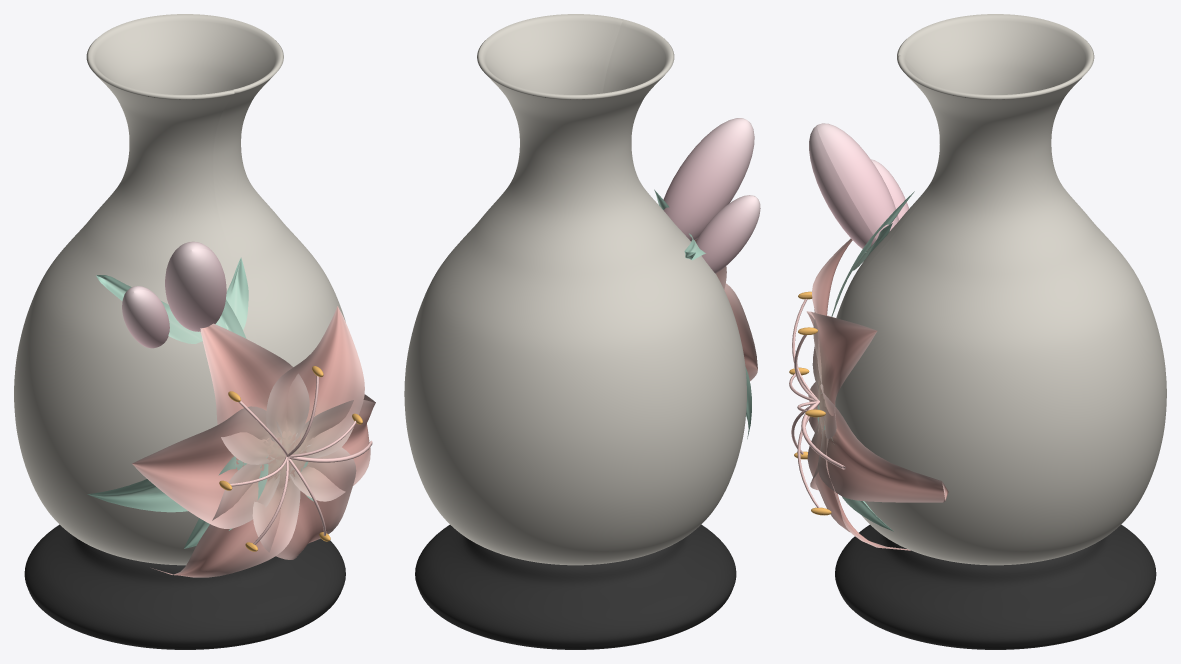
Rendered from vas_lily.glb.
The picture shows the model from 3 angles, left to right: view 1: azimuth 30°, elevation 25°; view 2: azimuth 150°, elevation 25°; view 3: azimuth 270°, elevation 25°; orthographic projection.
Parts seen in each view (by area): view 1: vas_lily; view 2: vas_lily; view 3: vas_lily.
Part boxes in pixels (<box>): vas_lily: <box>14,14,375,649</box>; vas_lily: <box>404,14,760,649</box>; vas_lily: <box>789,14,1166,649</box>.
Size of the model in its own units: 2.67 by 4.43 by 2.83.
